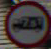Heavy Vehicles: (6, 5, 46, 37)
